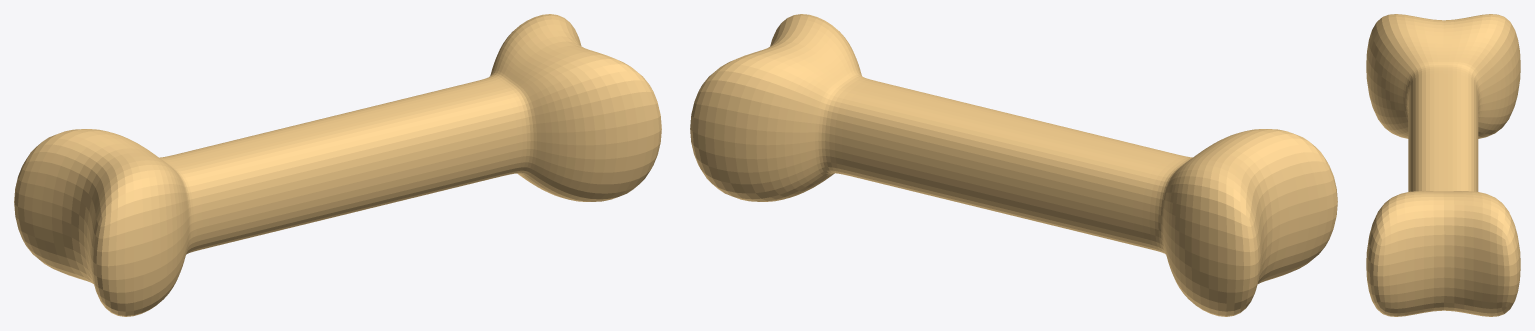
Rendered from Chicken_Bone.fbx.
The picture shows the model from 3 angles, left to right: view 1: azimuth 30°, elevation 25°; view 2: azimuth 150°, elevation 25°; view 3: azimuth 270°, elevation 25°; orthographic projection. The views are drawn at different scales.
Parts seen in each view (by area): view 1: Cube; view 2: Cube; view 3: Cube.
Boxes of the visible parts, x1,y1,x2,y2 form: Cube: [14, 14, 661, 316]; Cube: [690, 14, 1337, 316]; Cube: [1366, 14, 1520, 316].
Bounding box in the file's own units: 1438 × 347 × 423.
